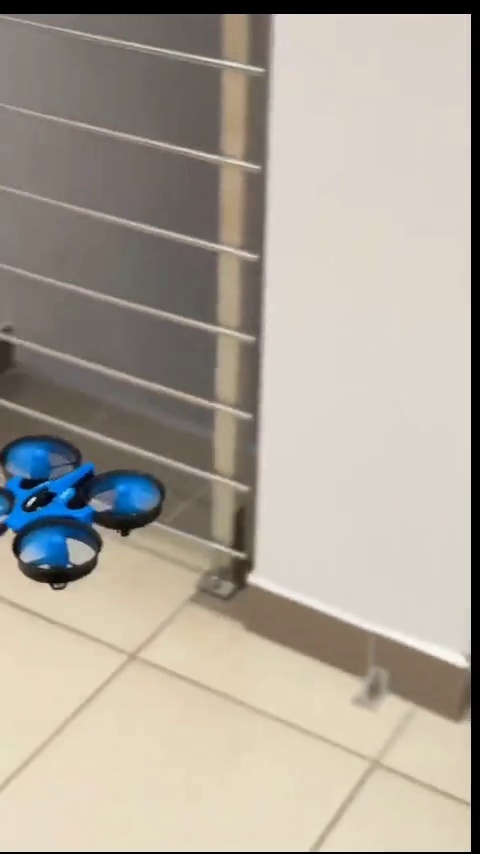drone: (0, 434, 163, 589)
